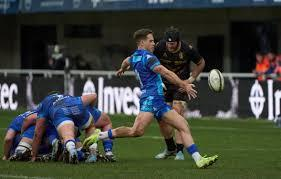ballon_rugby: (208, 69, 225, 94)
